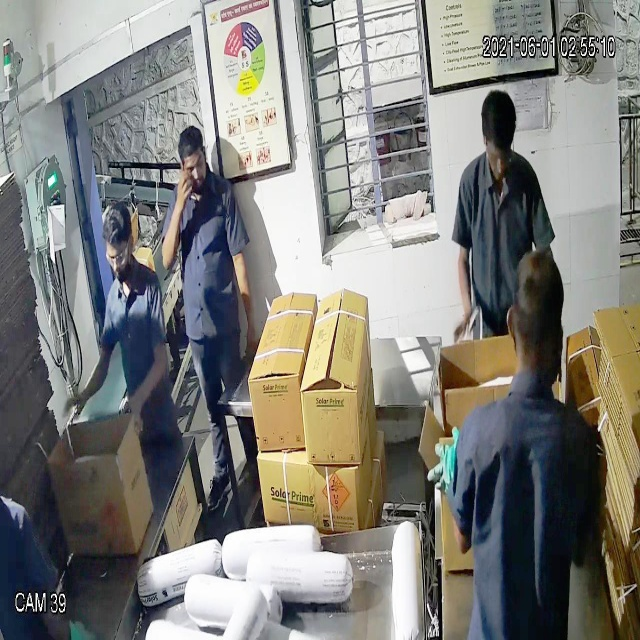Gafas: (101, 239, 133, 274)
